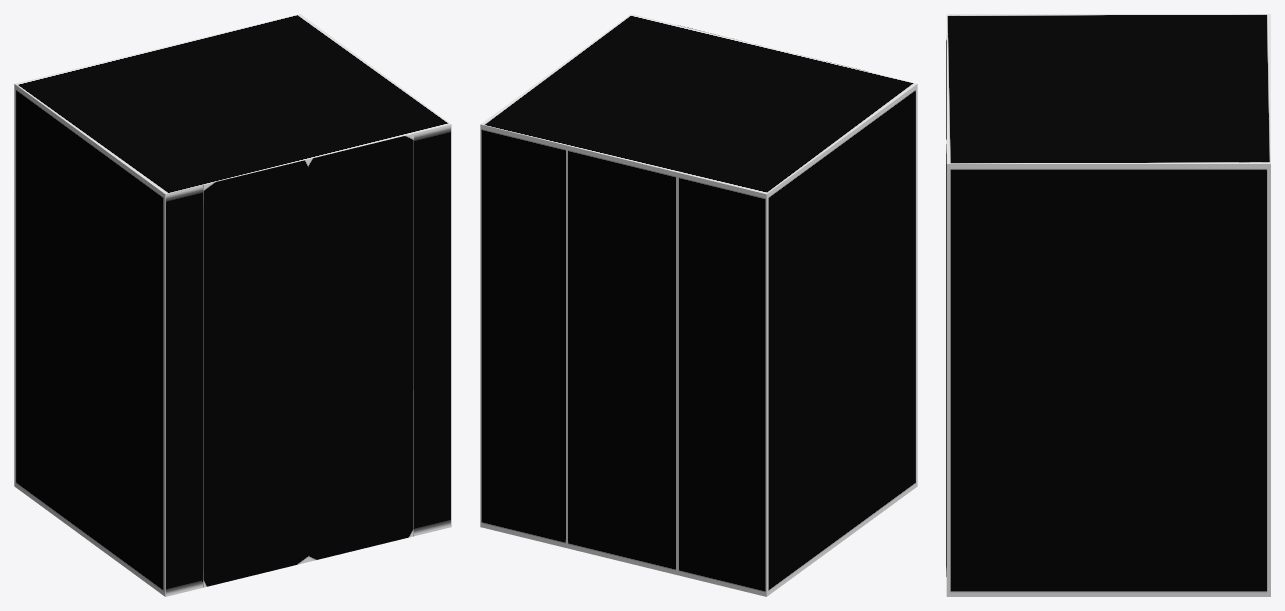
The picture shows the model from 3 angles, left to right: view 1: azimuth 30°, elevation 25°; view 2: azimuth 150°, elevation 25°; view 3: azimuth 270°, elevation 25°; orthographic projection. The views are drawn at different scales.
Parts seen in each view (by area): view 1: box; view 2: box; view 3: box.
Boxes of the visible parts, <box> form: box: <box>14,14,451,596</box>; box: <box>480,14,917,596</box>; box: <box>946,14,1270,596</box>.
Size of the model in its own units: 1.49 by 2 by 1.36.
Materials: 9 (7 with a texture image).
